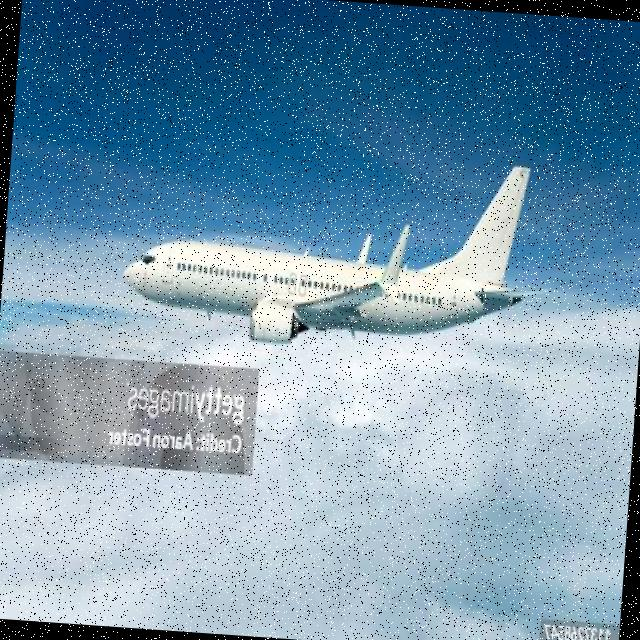airpane: (116, 138, 555, 364)
